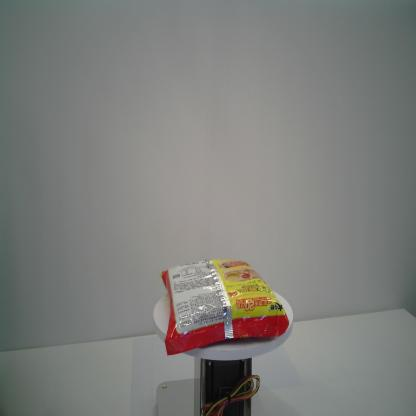Instant Noodles: (158, 257, 290, 356)
